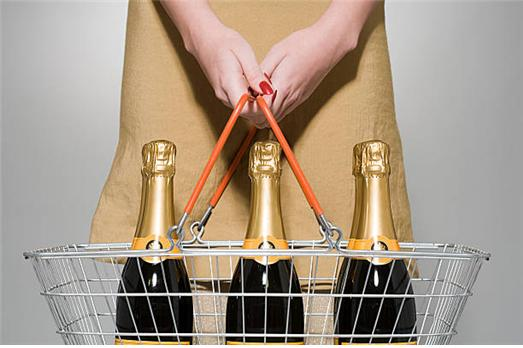alcohol: (330, 142, 417, 346), (220, 141, 305, 348), (113, 141, 195, 346)
